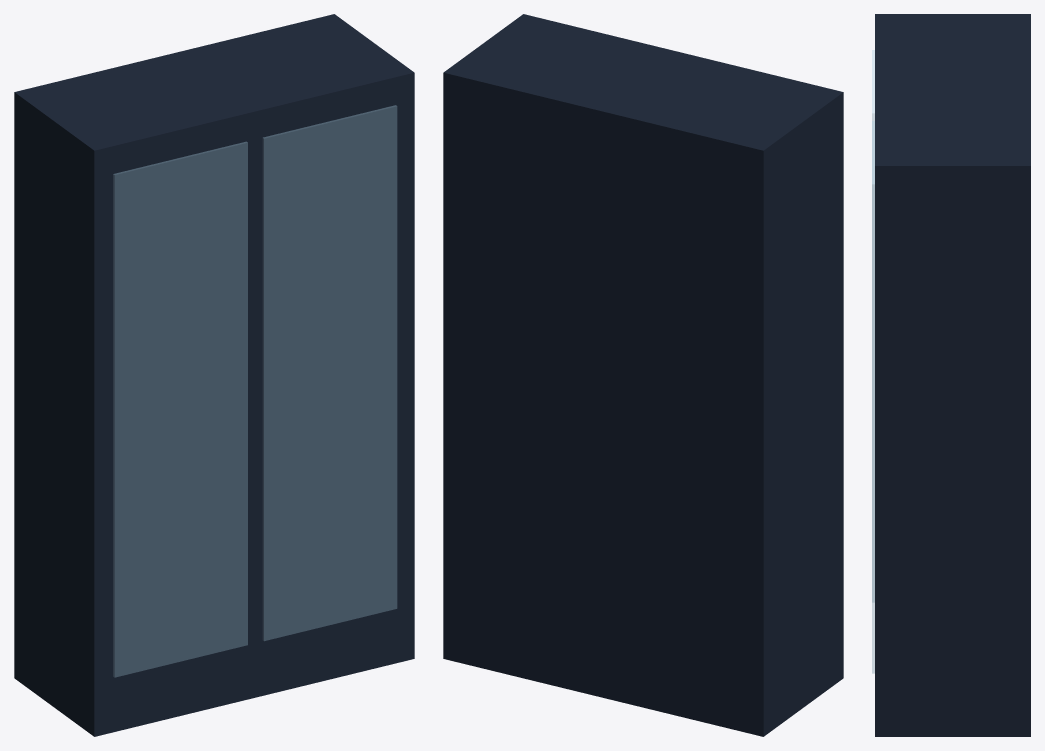
Rendered from glassware_cabinet.glb.
3 views of the same model, side by side, from view 1: azimuth 30°, elevation 25°; view 2: azimuth 150°, elevation 25°; view 3: azimuth 270°, elevation 25° (orthographic). The views are drawn at different scales.
Parts seen in each view (by area): view 1: Laboratory_Glassware_Storage_Cabinet; view 2: Laboratory_Glassware_Storage_Cabinet; view 3: Laboratory_Glassware_Storage_Cabinet.
Part boxes in pixels (box(x1,y1,x2,y2)): Laboratory_Glassware_Storage_Cabinet: box(14, 14, 414, 736); Laboratory_Glassware_Storage_Cabinet: box(443, 14, 843, 736); Laboratory_Glassware_Storage_Cabinet: box(872, 14, 1030, 736).
Size of the model in its own units: 1.2 by 2.1 by 0.53.
